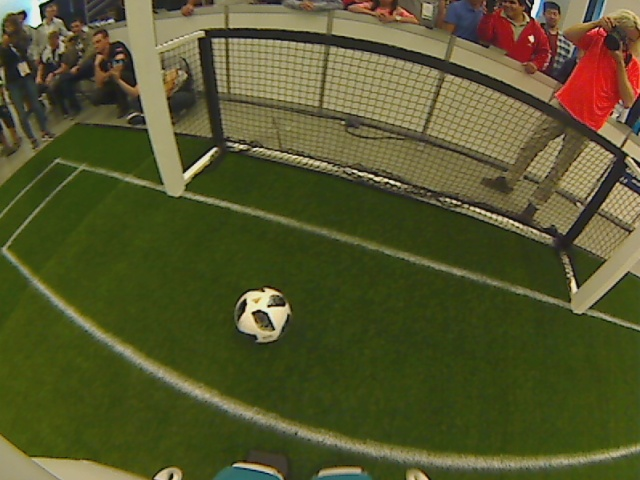ball: (231, 285, 291, 343)
